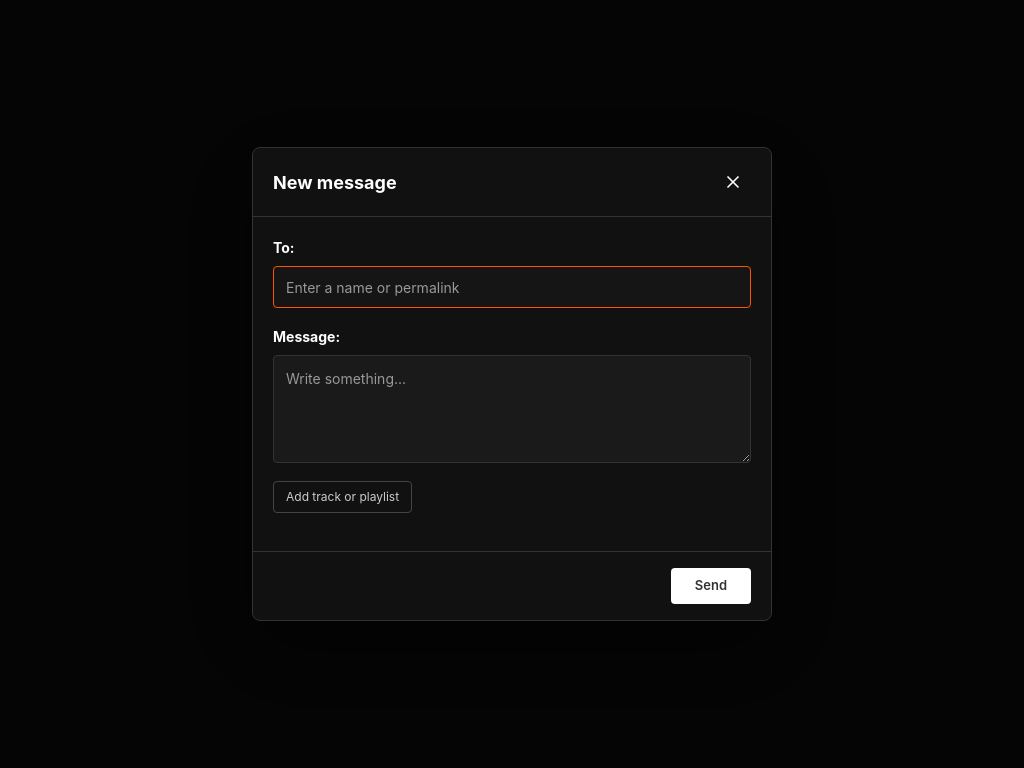
Test: NewConversationModal › should select user from search results
The width and height of the screenshot is (1024, 768).
Type "John" into the field with test id "recipient-search-input" at (512,287), box [273, 266, 751, 308]
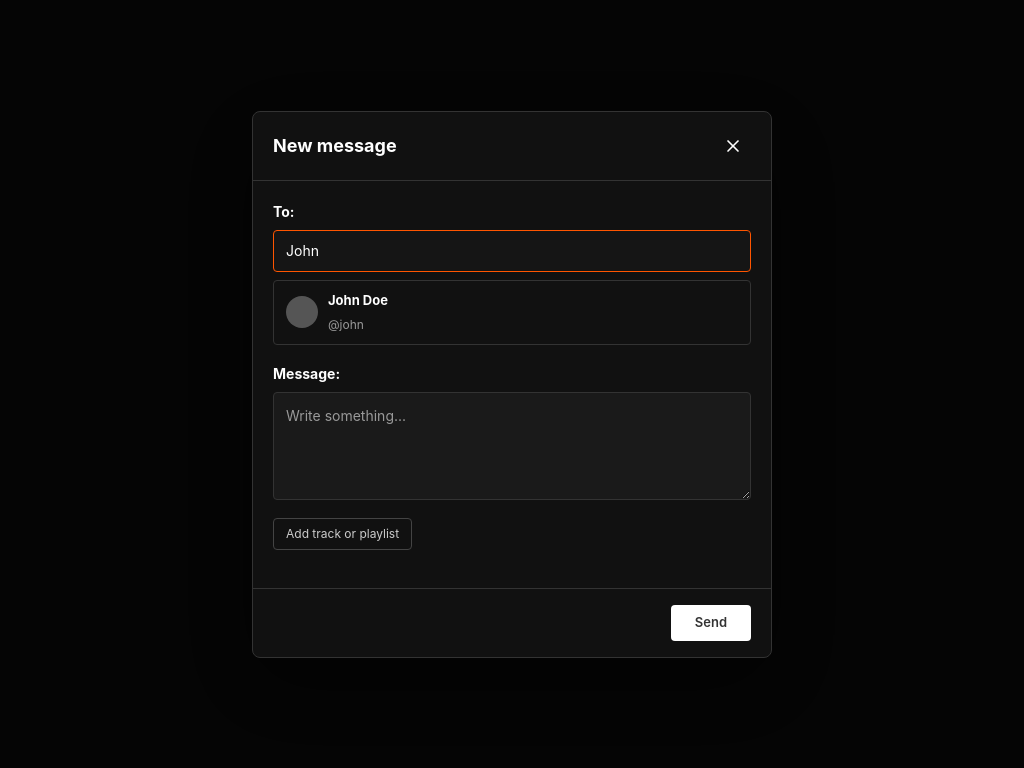
Click the element with test id "search-result-u1" at (302,312), box [286, 292, 388, 332]
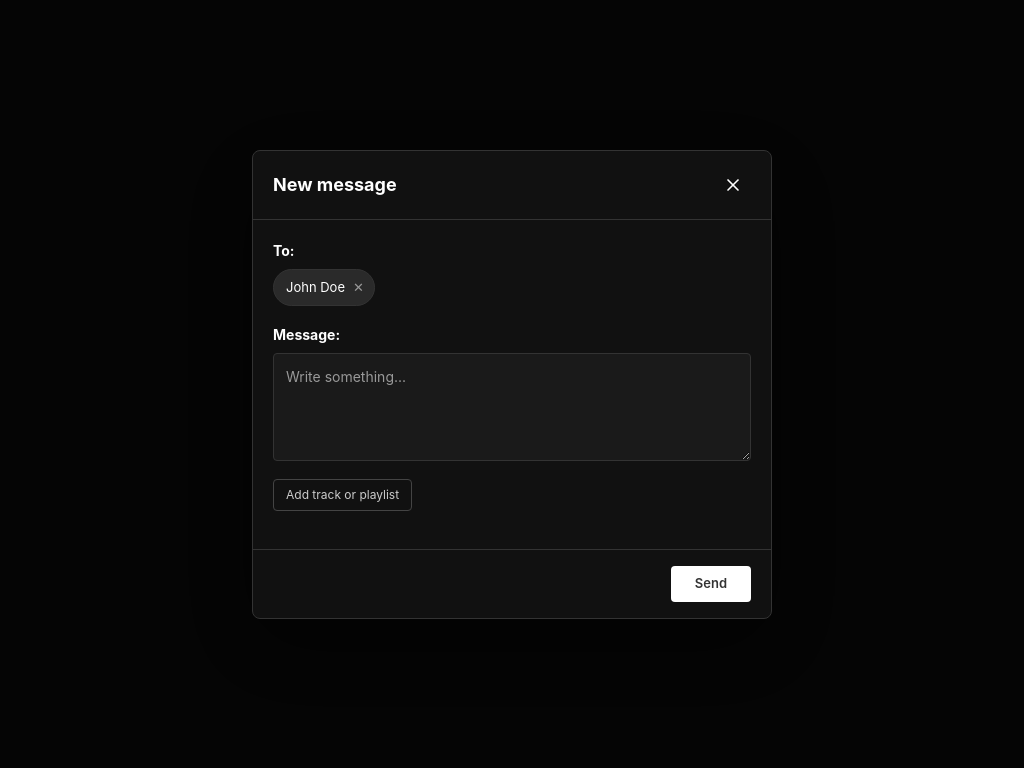
Result: the text "John Doe" is shown at [286, 278, 345, 297]
Result: the field with test id "recipient-search-input" is gone
